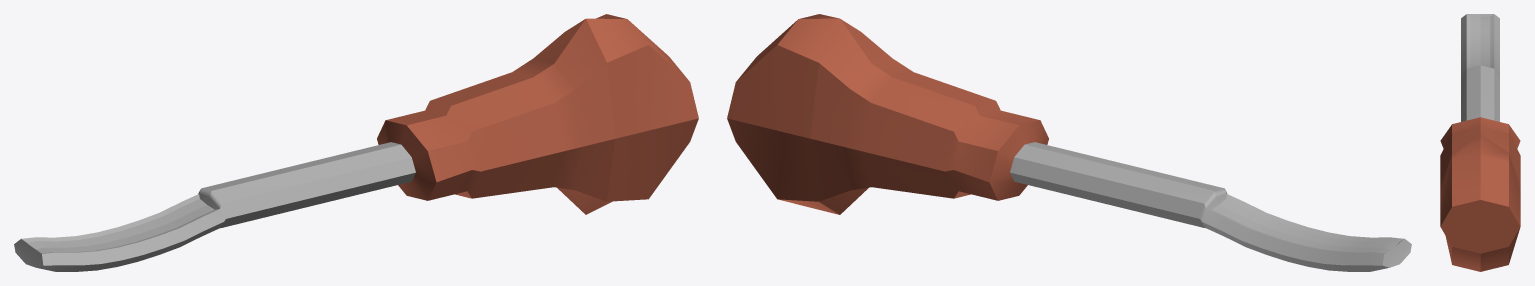
File: Gubia.fbx
3 renders of one model, left to right at view 1: azimuth 30°, elevation 25°; view 2: azimuth 150°, elevation 25°; view 3: azimuth 270°, elevation 25°, orthographic. The views are drawn at different scales.
Visible parts, largest first — view 1: Gubia; view 2: Gubia; view 3: Gubia.
Part boxes in pixels (x1,y1,x2,y2): Gubia: (14, 14, 698, 271); Gubia: (727, 14, 1411, 271); Gubia: (1440, 14, 1520, 271).
Size of the model in its own units: 0.2438 by 0.0712 by 0.0392.
